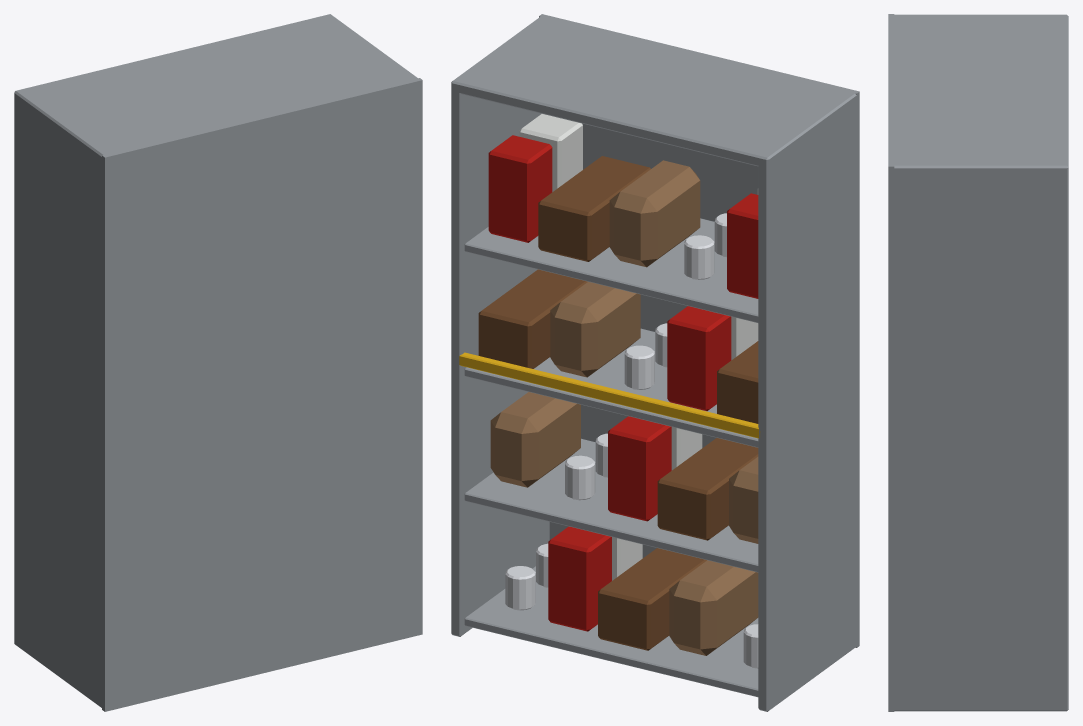
Rendered from food_store.glb.
3 views of the same model, side by side, from view 1: azimuth 30°, elevation 25°; view 2: azimuth 150°, elevation 25°; view 3: azimuth 270°, elevation 25° (orthographic).
Parts seen in each view (by area): view 1: food_store; view 2: food_store; view 3: food_store.
Part boxes in pixels (x1,y1,x2,y2): food_store: (14,14,422,711); food_store: (451,14,859,711); food_store: (888,14,1068,711).
Size of the model in its own units: 1.2 by 2 by 0.6.
